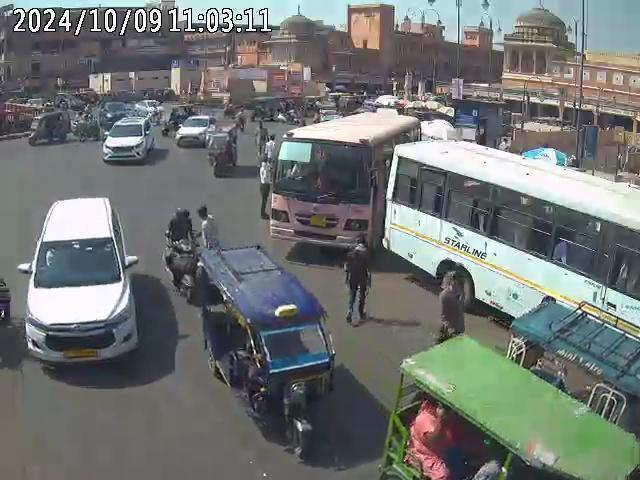auto: (373, 335, 637, 479), (196, 242, 332, 457), (510, 302, 640, 436), (27, 109, 75, 147), (207, 125, 239, 178)
bus: (381, 136, 639, 320), (270, 118, 422, 255)
car: (20, 195, 141, 373), (100, 115, 155, 166), (174, 114, 217, 148)
helmet: (176, 204, 190, 222)
license_plate: (64, 344, 102, 360)
person: (434, 265, 471, 345), (340, 236, 372, 326), (197, 205, 218, 250), (551, 233, 570, 266), (236, 106, 249, 132)
scooty-rider: (159, 205, 202, 304)
